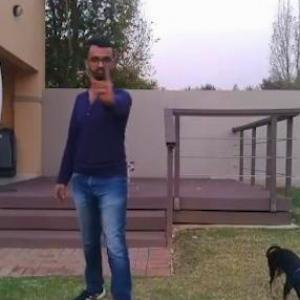takeoff-hand: (83, 59, 117, 108)
